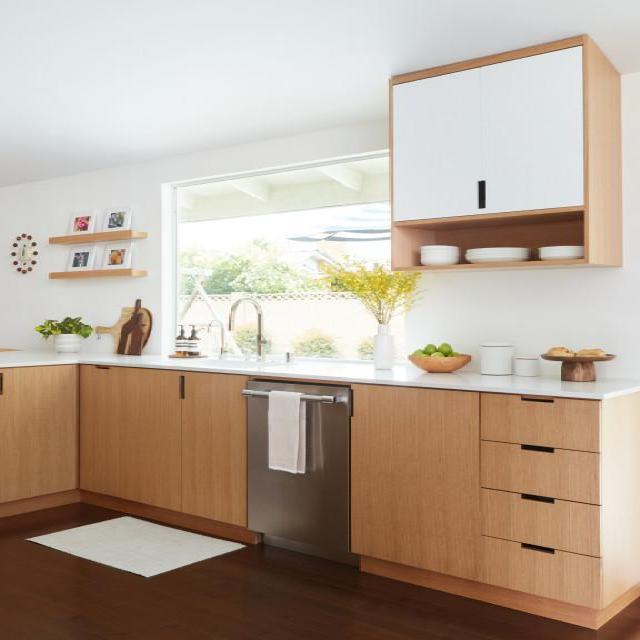dishwasher: (244, 381, 363, 561)
